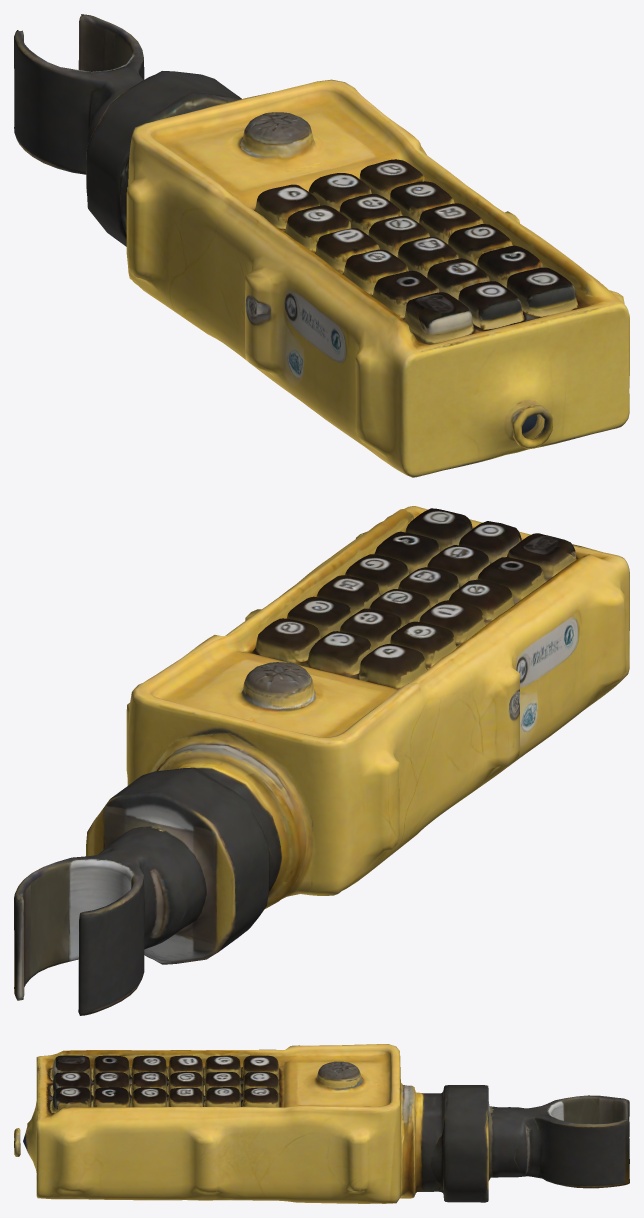
File: Control_Pendant_1230191817_texture.fbx
3 views of the same model, one above another, from view 1: azimuth 30°, elevation 25°; view 2: azimuth 150°, elevation 25°; view 3: azimuth 270°, elevation 25° (orthographic). The views are drawn at different scales.
Parts seen in each view (by area): view 1: Mesh1_Mesh1.067; view 2: Mesh1_Mesh1.067; view 3: Mesh1_Mesh1.067.
Part boxes in pixels (box(x1,y1,x2,y2)): Mesh1_Mesh1.067: box(14, 14, 629, 477); Mesh1_Mesh1.067: box(14, 506, 629, 1015); Mesh1_Mesh1.067: box(14, 1044, 629, 1203).
Size of the model in its own units: 62.66 by 47.37 by 200.
1 material, 1 textured.
